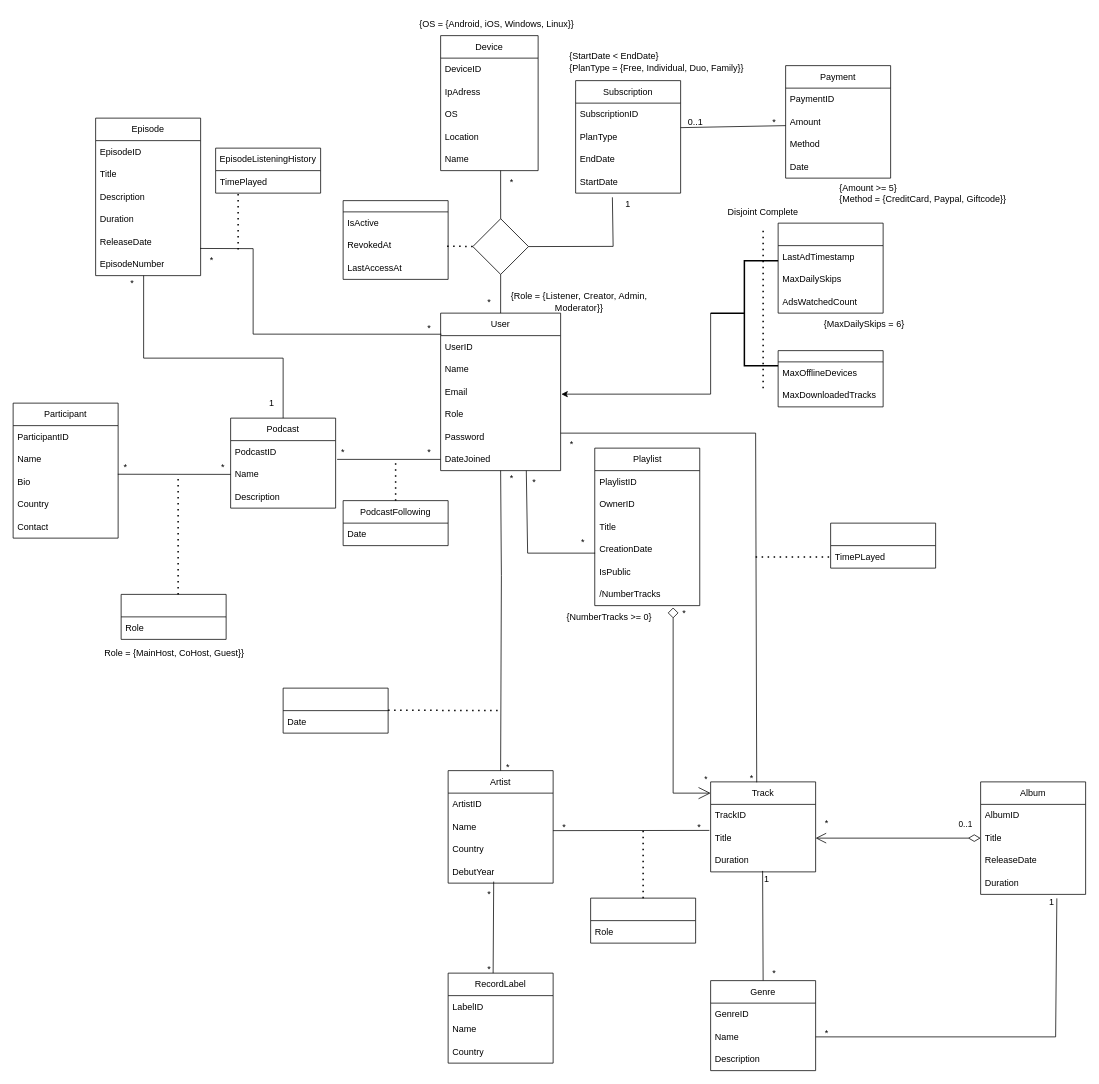
Image size: 1099x1084. Some labels were removed from this diagram. The shapes that lost their labels are listed below. From the top down, each one's box as (x1, y1, x2, y2) in pixels, then its label:
(342, 200, 448, 279): SessionInfo
(777, 222, 883, 313): FreeUser
(777, 350, 883, 407): PremiumUser
(830, 522, 936, 568): TrackListeningHistory
(120, 594, 226, 639): PodcastRole
(282, 687, 388, 733): ArtistFollowing
(590, 897, 696, 943): Collaboration
